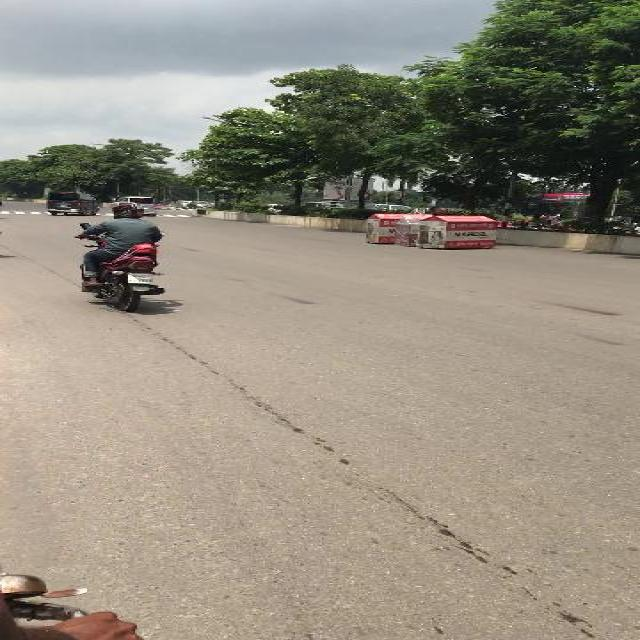car: (186, 200, 209, 208)
minivan: (124, 194, 160, 216)
motorbike: (71, 220, 171, 314)
van: (44, 190, 98, 216)
